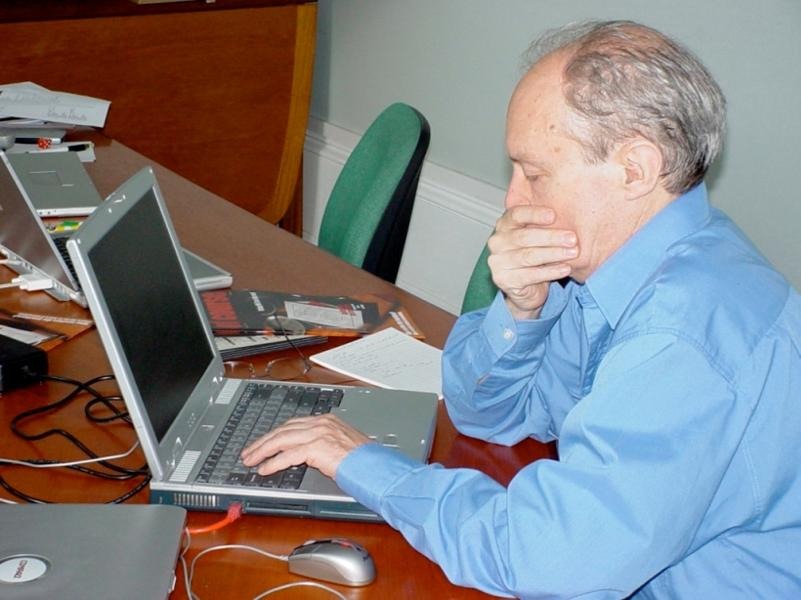person: (239, 19, 801, 600)
